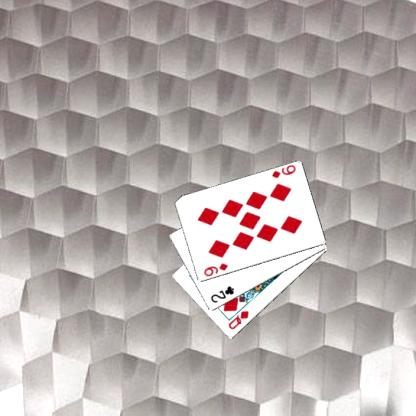2C: (208, 284, 235, 304)
9D: (201, 260, 229, 278), (269, 163, 297, 180)
QD: (226, 308, 250, 331)
